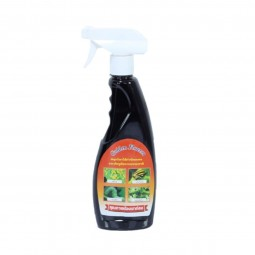Insecticide: (77, 21, 159, 237)
